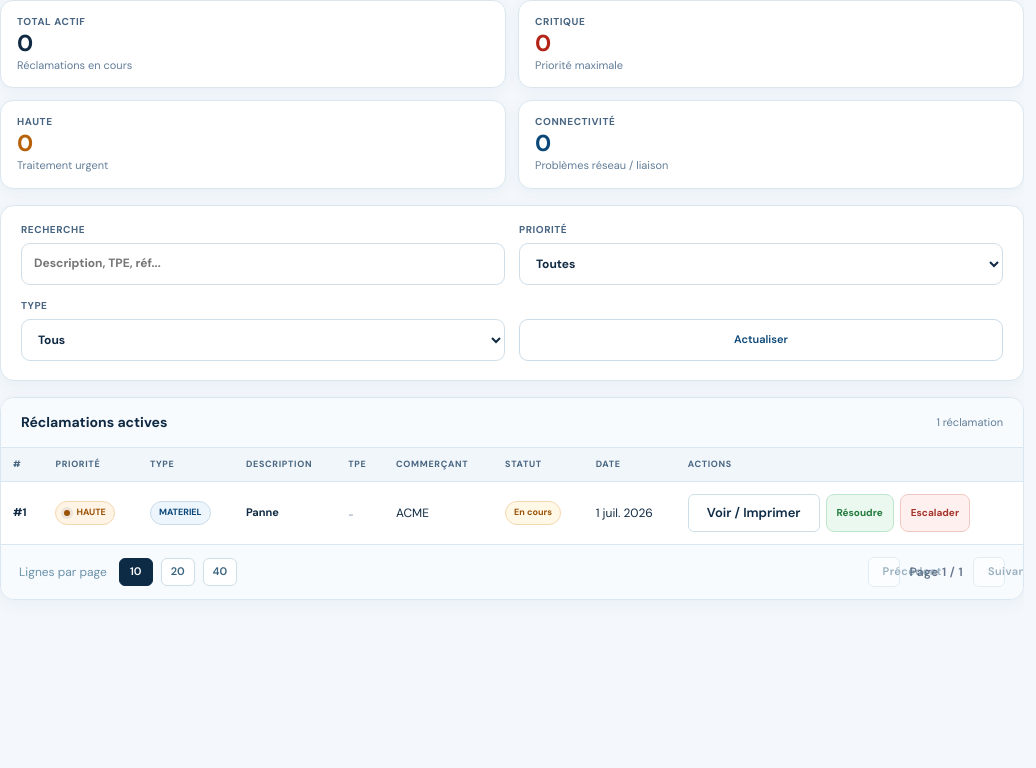
BackofficeReclamationsPage › marque une reclamation comme resolue
Click the button "Résoudre". click: (860, 513)
box: [826,494,894,532]
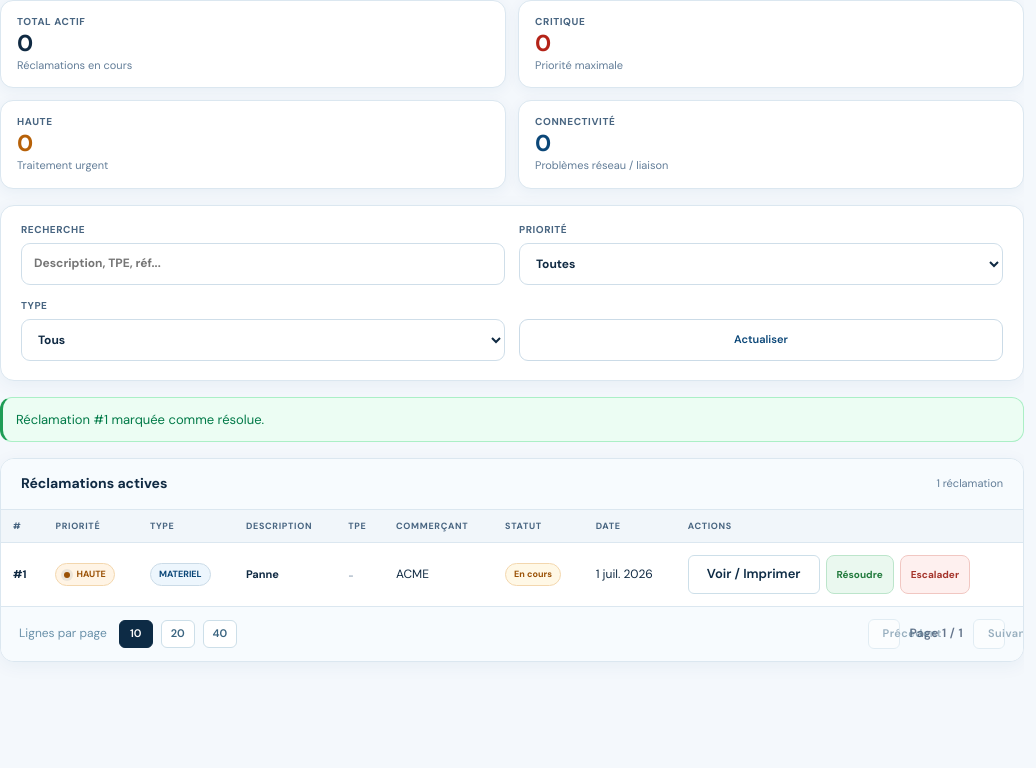
expect the text "Réclamation #1 marquée comme résolue." is shown: met, box [0,397,1024,442]
